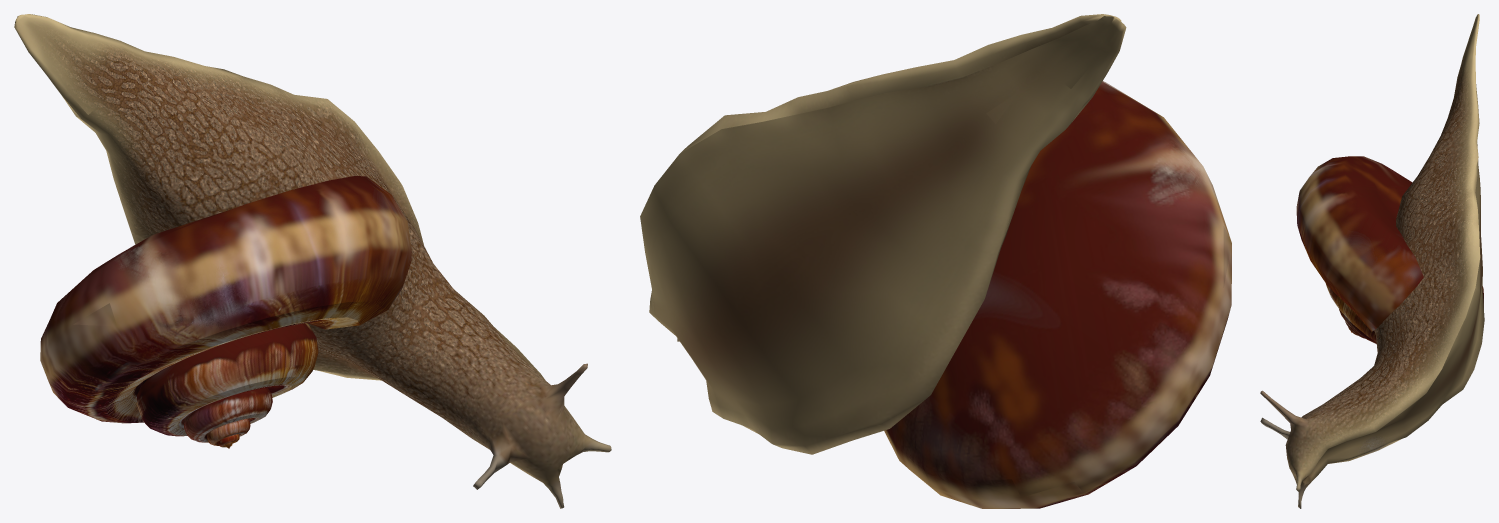
File: Snail.obj
3 views of the same model, side by side, from view 1: azimuth 30°, elevation 25°; view 2: azimuth 150°, elevation 25°; view 3: azimuth 270°, elevation 25° (orthographic). The views are drawn at different scales.
Visible parts, largest first — view 1: snail002__0; view 2: snail002__0; view 3: snail002__0.
Part boxes in pixels (x1,y1,x2,y2): snail002__0: (14,14,611,508); snail002__0: (640,14,1231,508); snail002__0: (1260,14,1484,508).
Size of the model in its own units: 616 by 612 by 353.
Materials: 1 (1 with a texture image).
